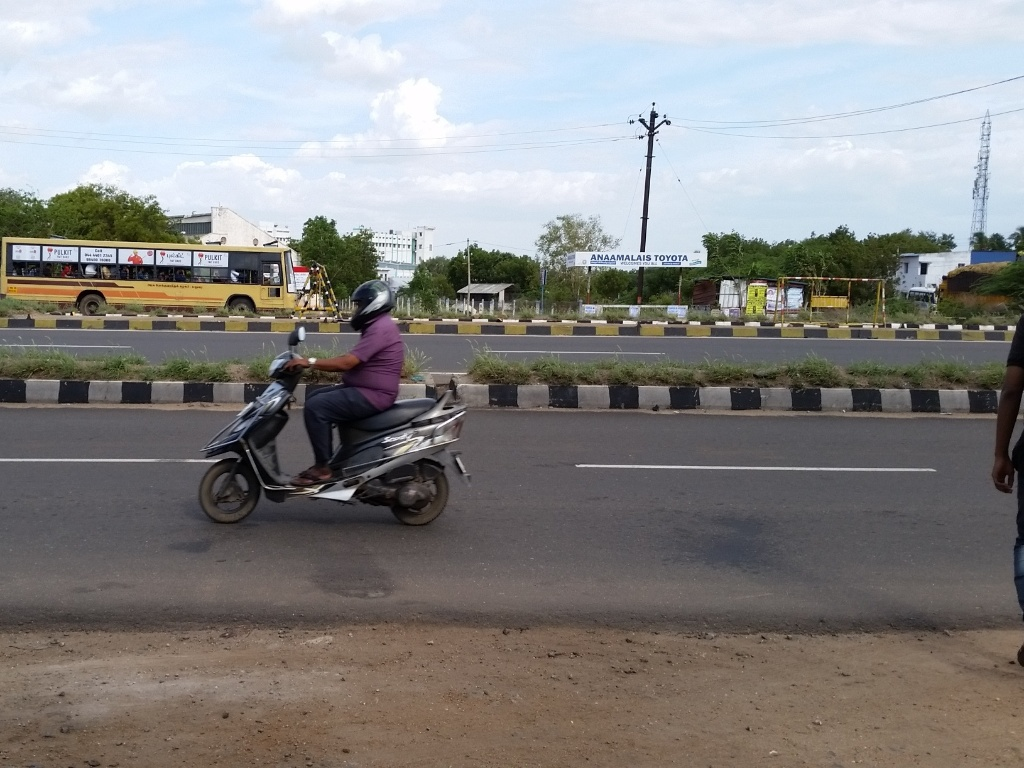biker: (180, 245, 500, 542)
helmet: (343, 267, 403, 333)
